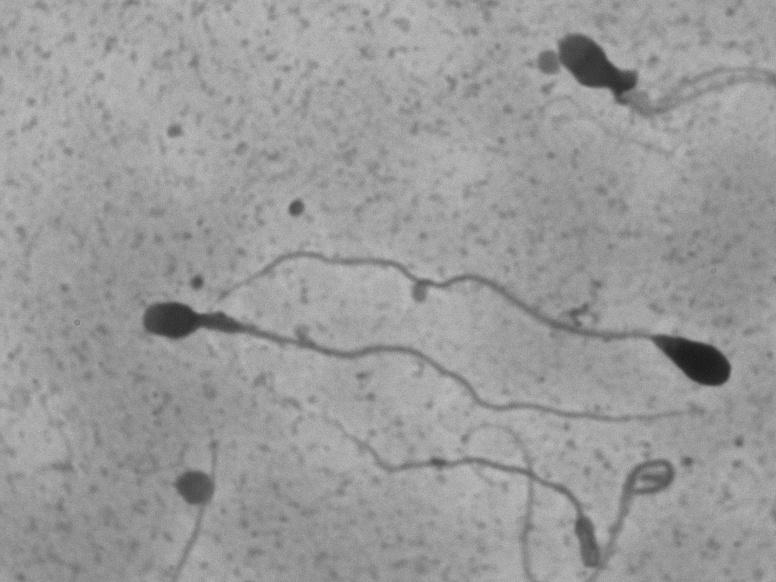Abnormal: (491, 247, 758, 404), (114, 289, 394, 422), (520, 12, 743, 154)
